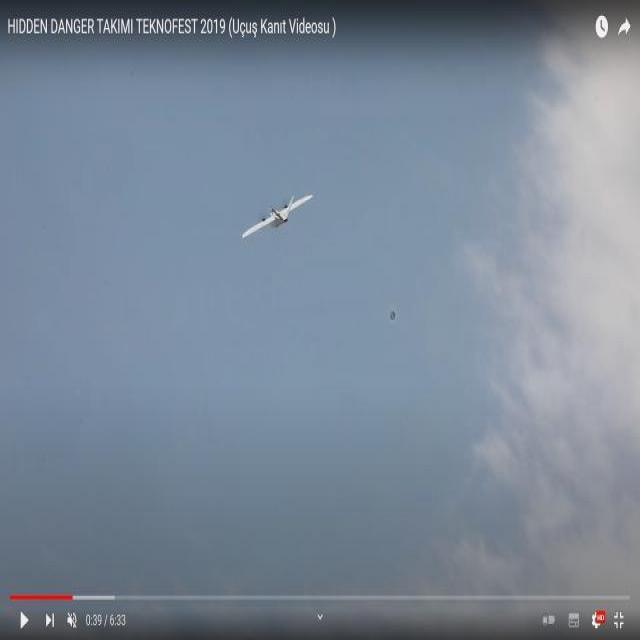UAV: (239, 190, 317, 244)
